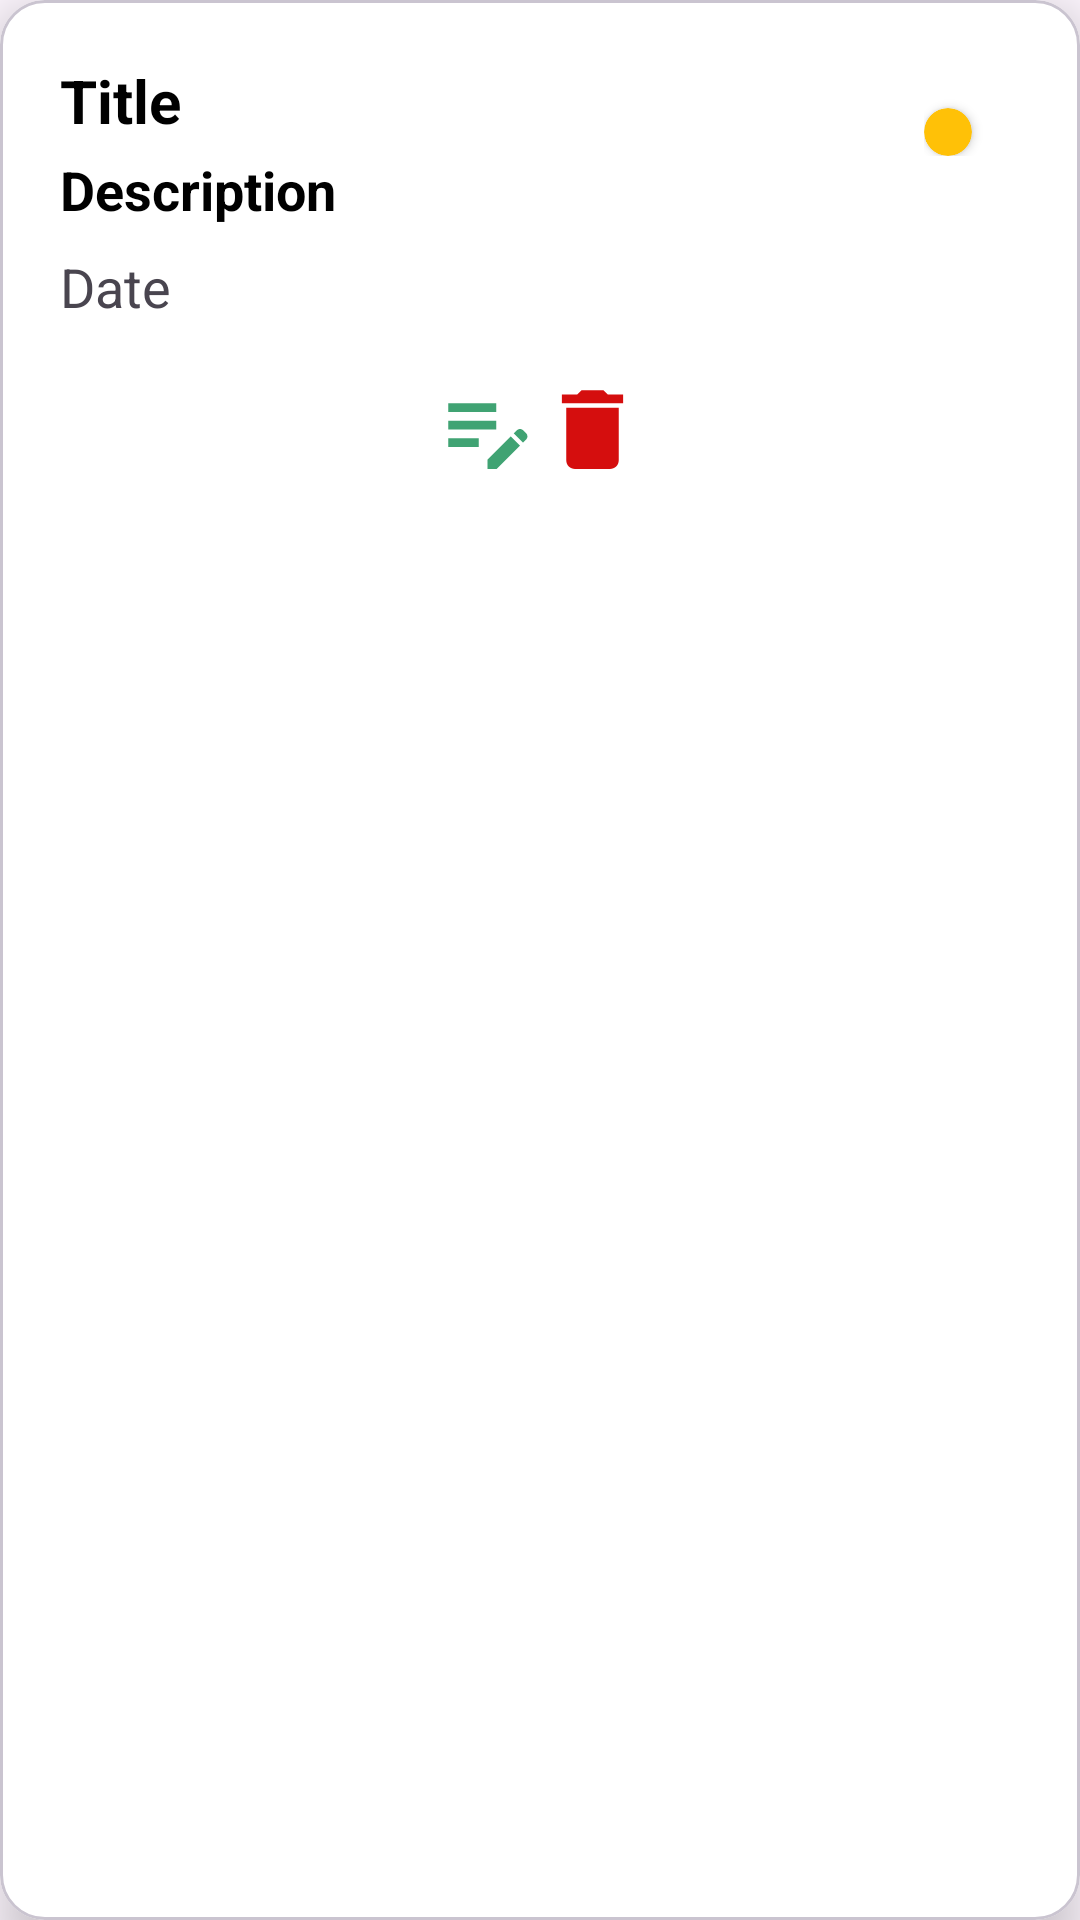

Screen size 1080×1920. Icon name, then its box in pixels as (x1, y1, x2, y2):
delete: (561, 390, 624, 469)
edit: (448, 403, 528, 469)
